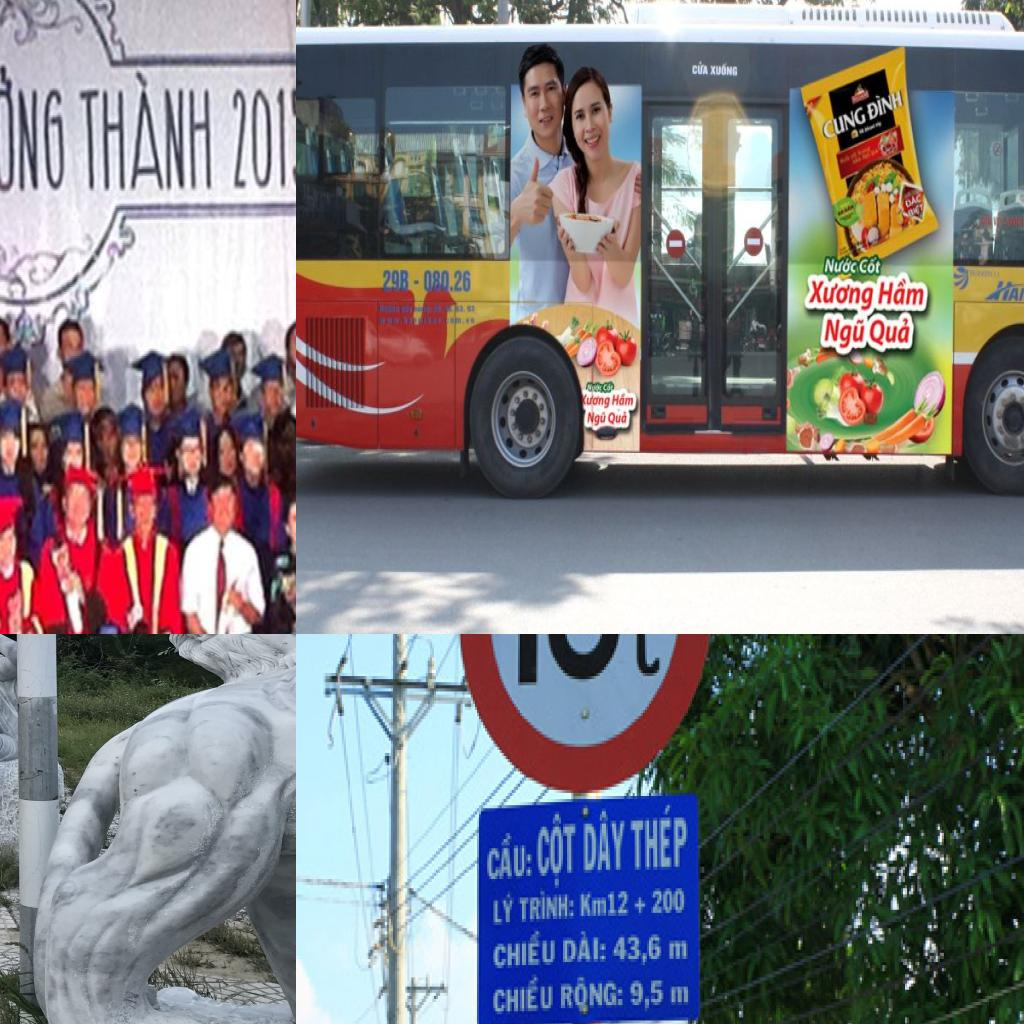text: (78, 70, 215, 194), (0, 59, 67, 194), (503, 634, 622, 697), (230, 86, 296, 190), (628, 802, 688, 879), (580, 808, 628, 879), (536, 812, 578, 892), (489, 928, 559, 974), (491, 974, 557, 1020), (485, 830, 534, 888), (559, 974, 626, 1014), (802, 275, 874, 311), (865, 311, 915, 356), (516, 888, 575, 925), (819, 311, 869, 354), (559, 928, 608, 971), (624, 634, 667, 682), (874, 276, 928, 312), (612, 931, 663, 968), (819, 105, 868, 142), (580, 888, 630, 922), (864, 86, 906, 122), (422, 265, 472, 295), (649, 882, 688, 919), (628, 978, 668, 1014), (491, 888, 516, 928), (822, 254, 859, 276), (380, 266, 410, 289), (667, 938, 690, 968), (580, 390, 611, 411), (710, 62, 738, 82), (611, 392, 636, 414), (608, 410, 632, 432), (859, 255, 881, 279), (584, 408, 609, 429), (689, 58, 711, 80), (904, 200, 926, 222), (903, 190, 924, 212), (633, 894, 649, 916)
